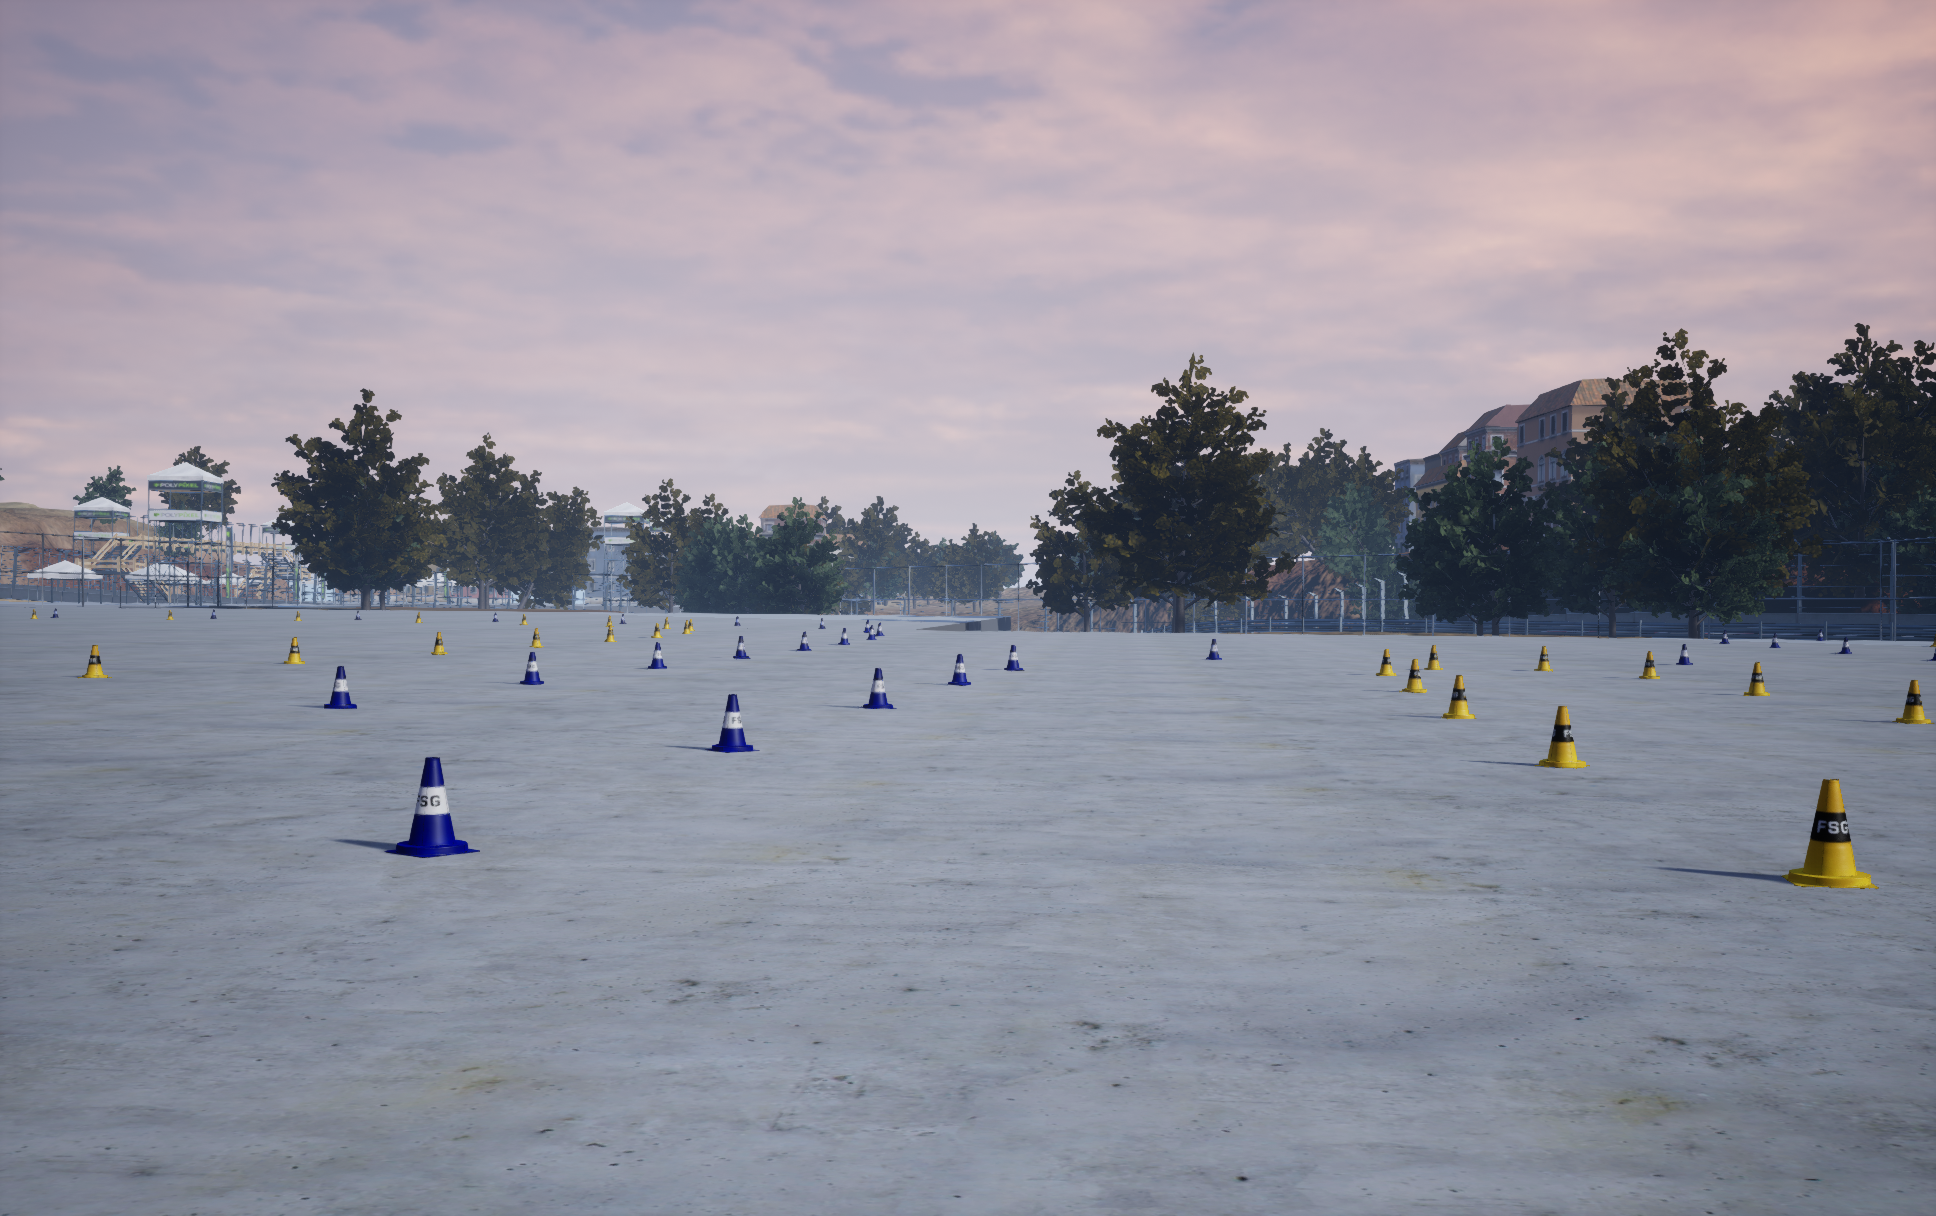blue: (1781, 779, 1879, 888), (1534, 706, 1589, 768), (1893, 679, 1935, 723), (1441, 675, 1477, 719), (77, 644, 111, 677), (1399, 658, 1426, 692), (1743, 663, 1769, 695), (1376, 649, 1397, 675), (1639, 651, 1659, 678), (284, 637, 304, 663), (1534, 646, 1552, 671), (1425, 644, 1441, 670), (431, 632, 447, 654), (530, 628, 544, 647)
yellow: (384, 756, 479, 857), (705, 693, 759, 752), (859, 668, 897, 707), (324, 665, 356, 707), (520, 651, 544, 684), (948, 654, 969, 685), (1004, 644, 1024, 670), (649, 642, 665, 668), (733, 636, 749, 658), (1675, 644, 1692, 664), (1206, 639, 1222, 658), (797, 630, 811, 650)
